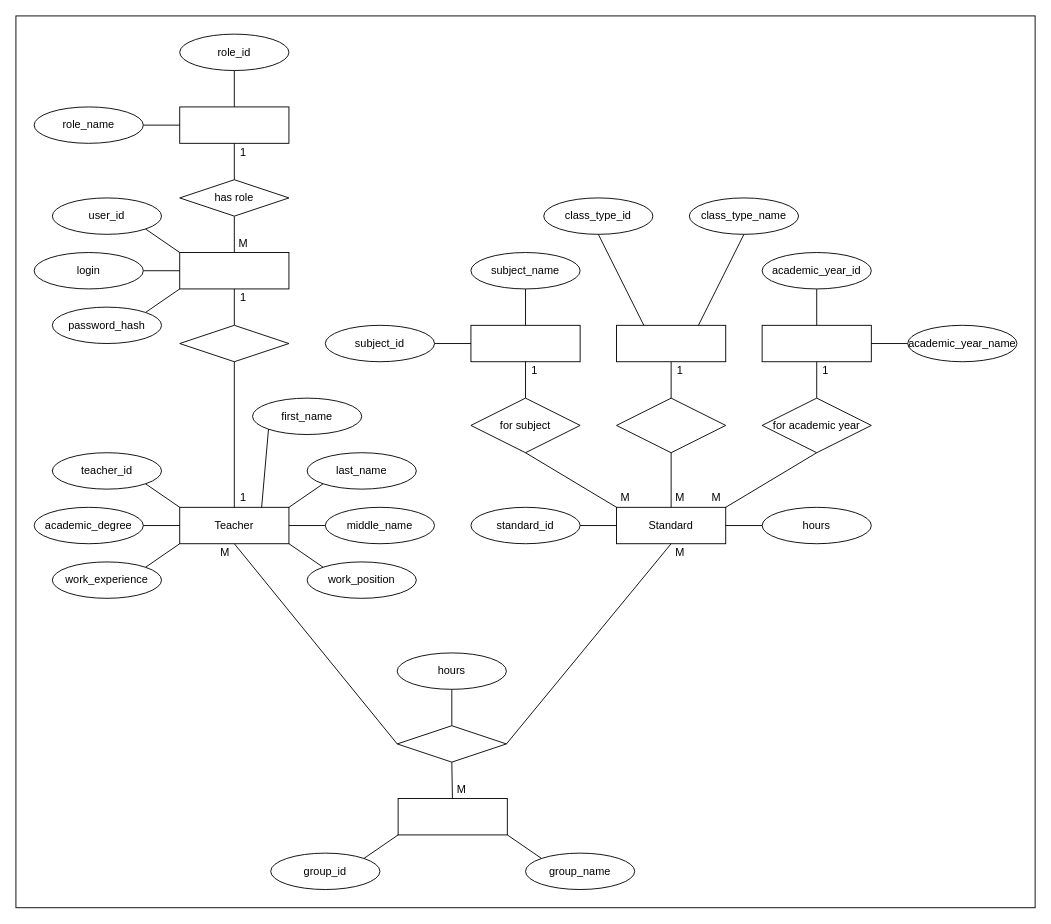
Image size: 1051x924. Some labels were removed from this diagram. The box of each missing label's shape, as (x1, y1, x2, y2) in pixels:
AcademycYear: (761, 324, 871, 362)
ClassType: (616, 324, 726, 362)
for class type: (616, 397, 726, 453)
Group: (397, 798, 507, 835)
has account: (179, 324, 289, 362)
Role: (179, 106, 289, 143)
Subject: (470, 324, 580, 362)
User: (179, 252, 289, 289)
Workload: (396, 725, 506, 762)
